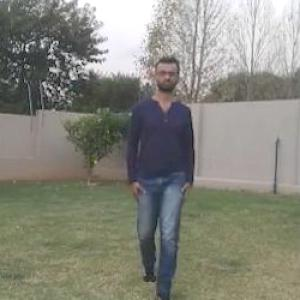follow: (133, 74, 186, 286)
